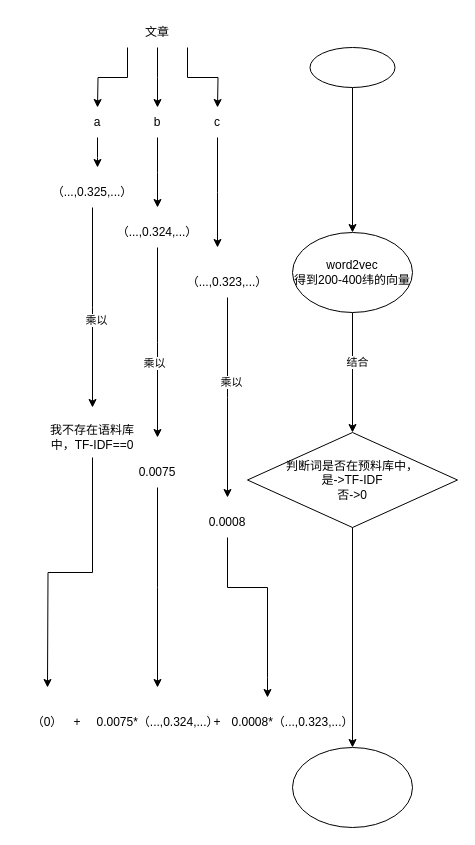
This 475x845 diagram has some shape labels left out. The shapes that lost their labels are listed below. From the top down, each one's centre as x and y in pixels, then its label:
At [352,67]: "分词".
At [352,787]: "得到句子的向量".
